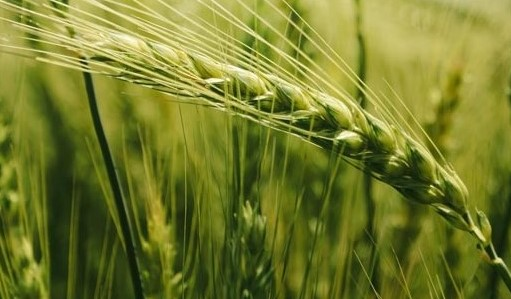Healthy Wheat: (95, 25, 479, 230)
